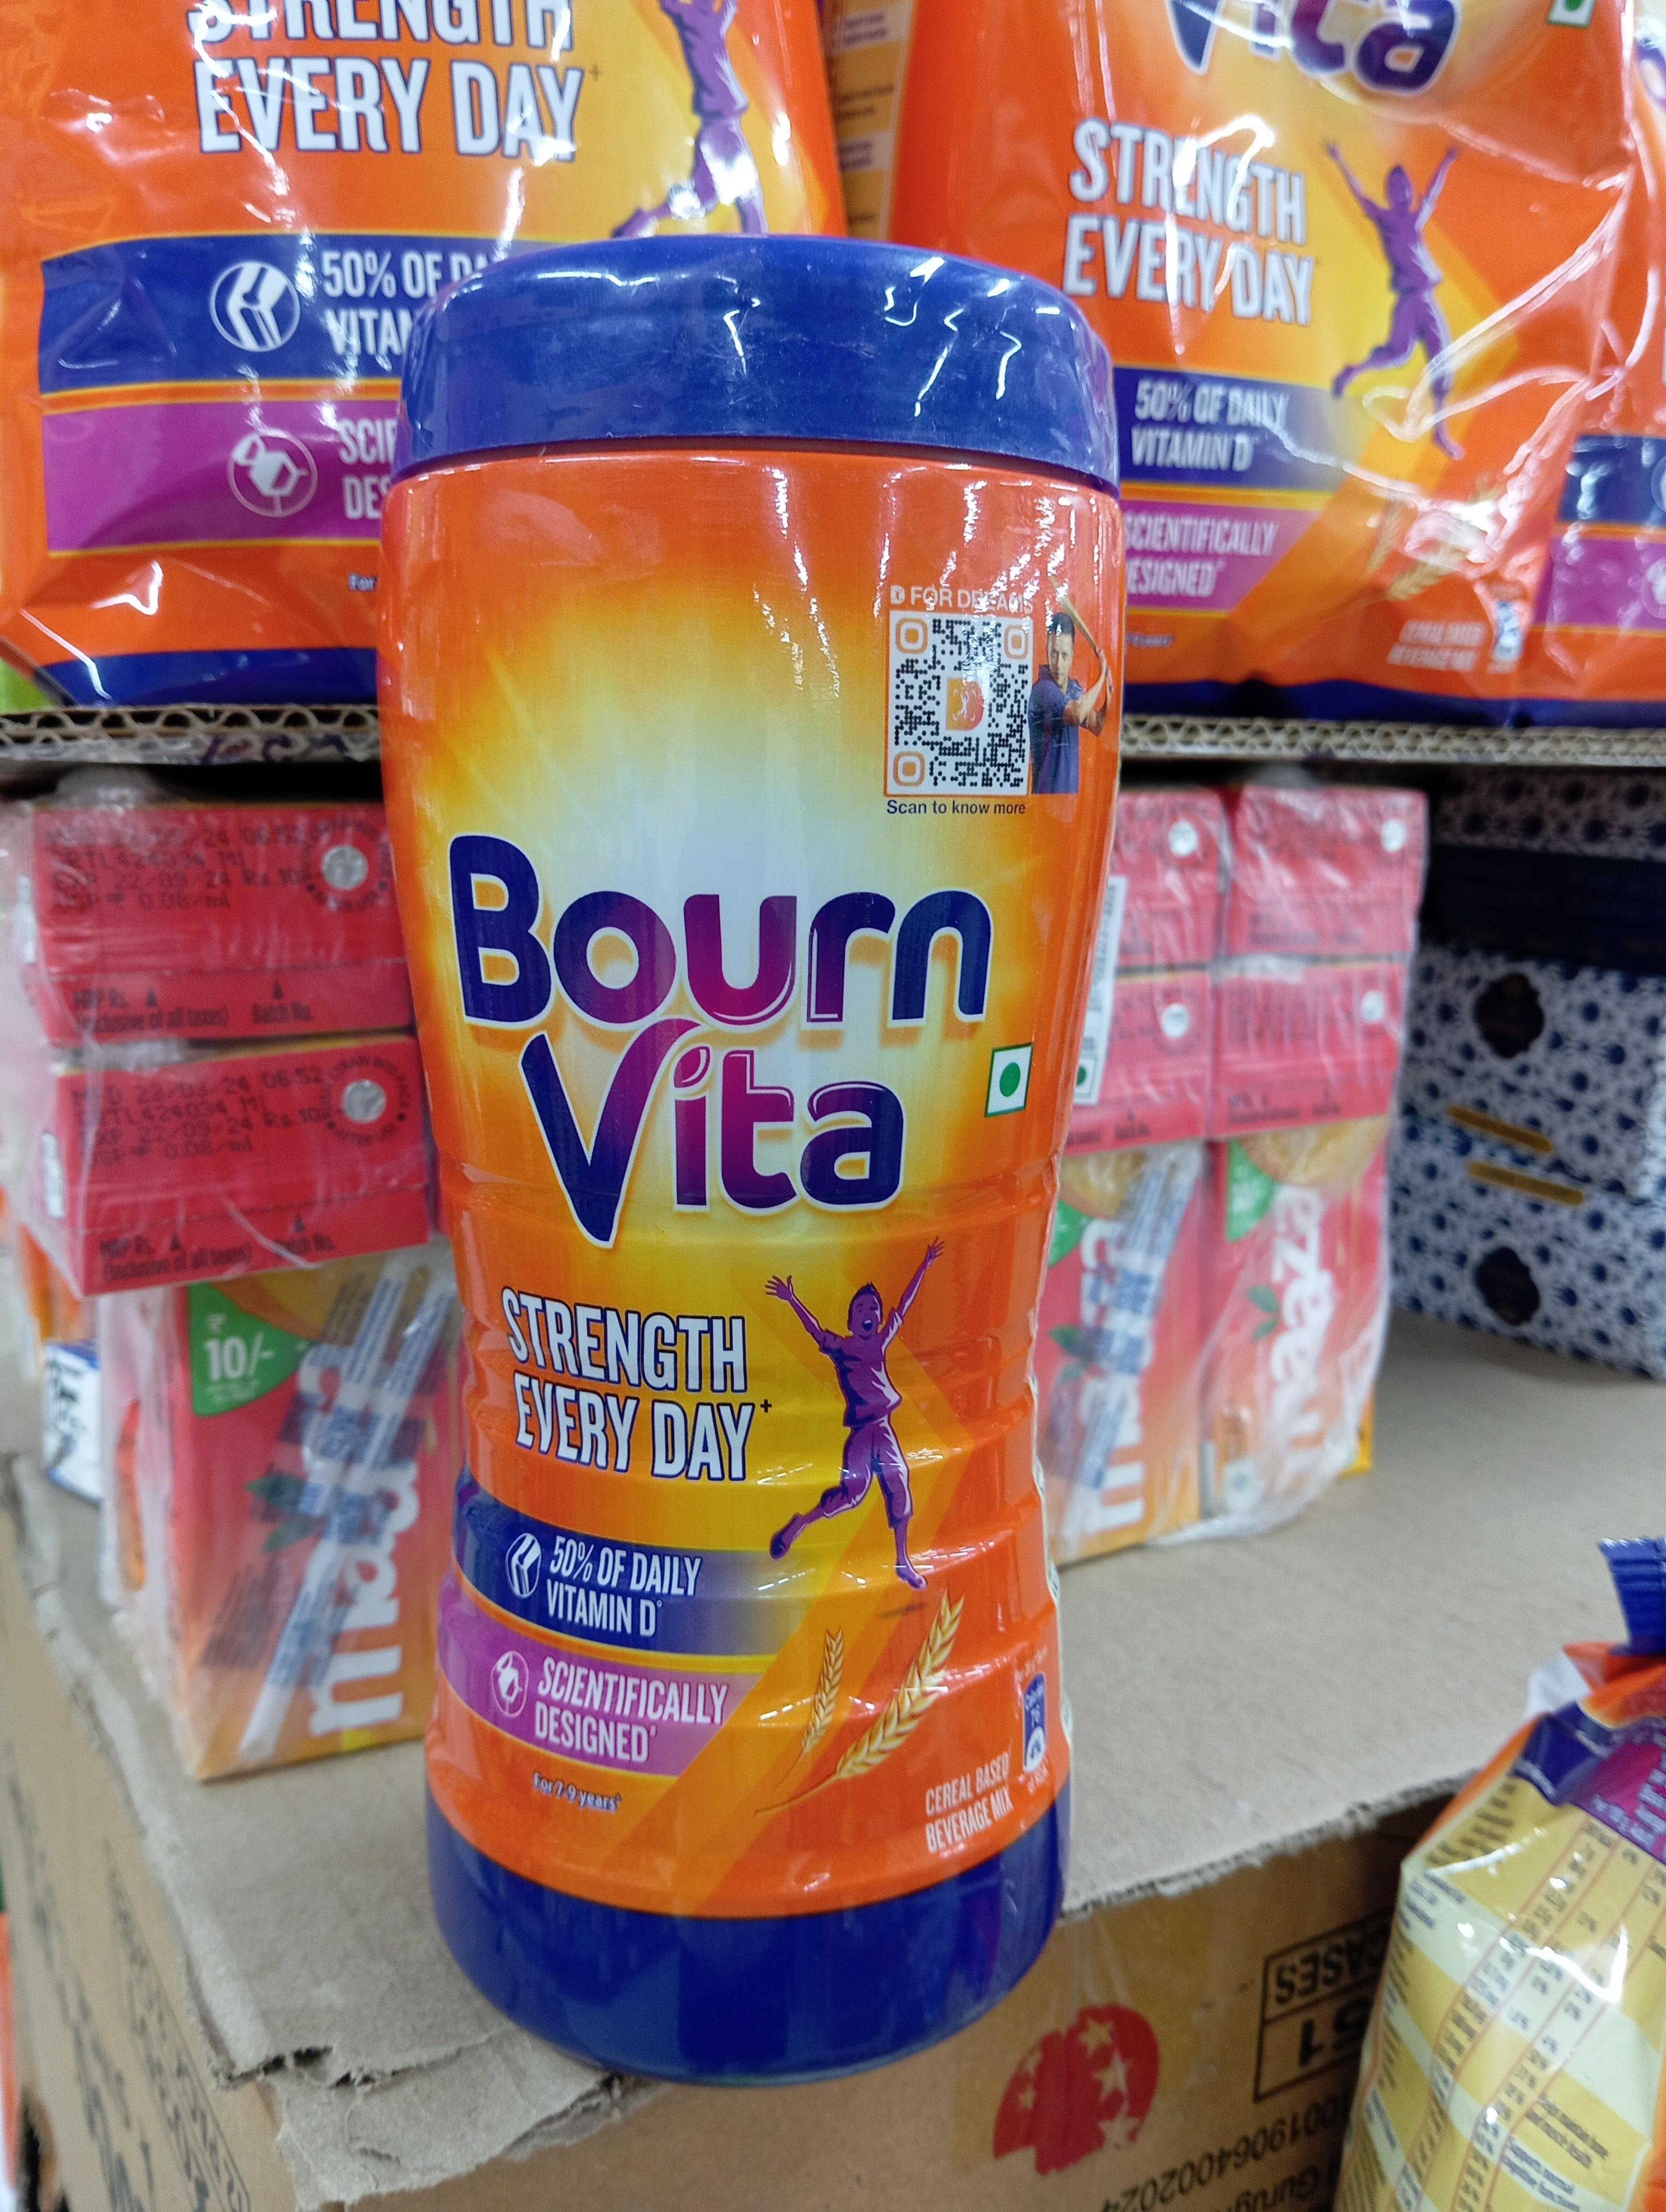BOURN_VITA_500_G_JAR: (362, 238, 1078, 2072)
